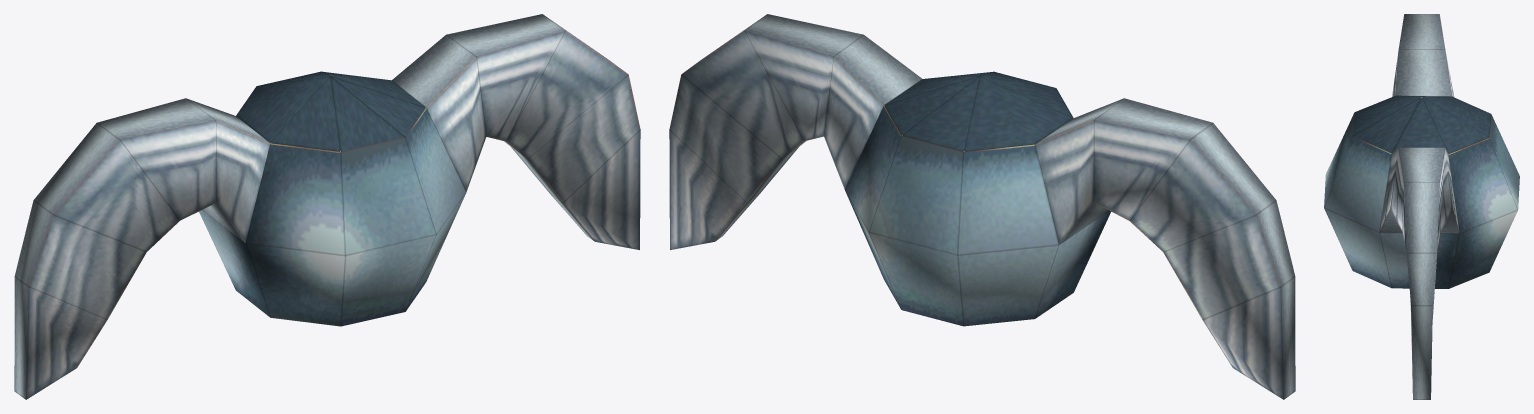
3 renders of one model, left to right at view 1: azimuth 30°, elevation 25°; view 2: azimuth 150°, elevation 25°; view 3: azimuth 270°, elevation 25°, orthographic. The views are drawn at different scales.
Parts seen in each view (by area): view 1: T1L3M005_10; view 2: T1L3M005_10; view 3: T1L3M005_10.
Boxes of the visible parts, x1,y1,x2,y2 form: T1L3M005_10: (14,14,640,399); T1L3M005_10: (669,14,1295,399); T1L3M005_10: (1324,14,1519,399).
Bounding box in the file's own units: 0.8594 × 0.3291 × 0.3076.
